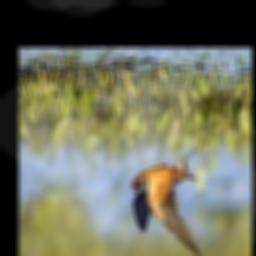Swallow: (130, 147, 221, 256)
